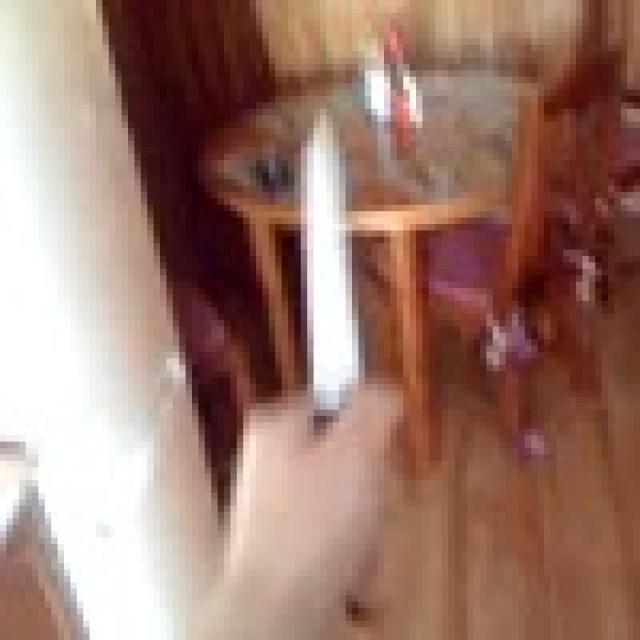Knife: (262, 102, 422, 596)
